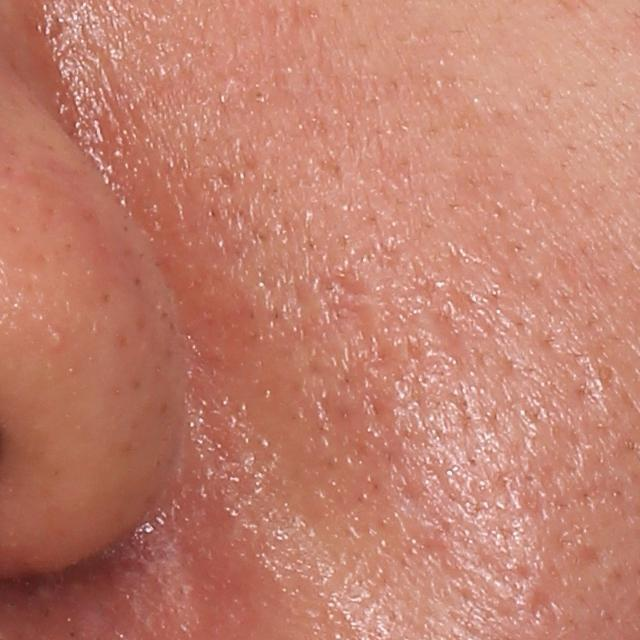atrophic_scar: (528, 586, 558, 623)
